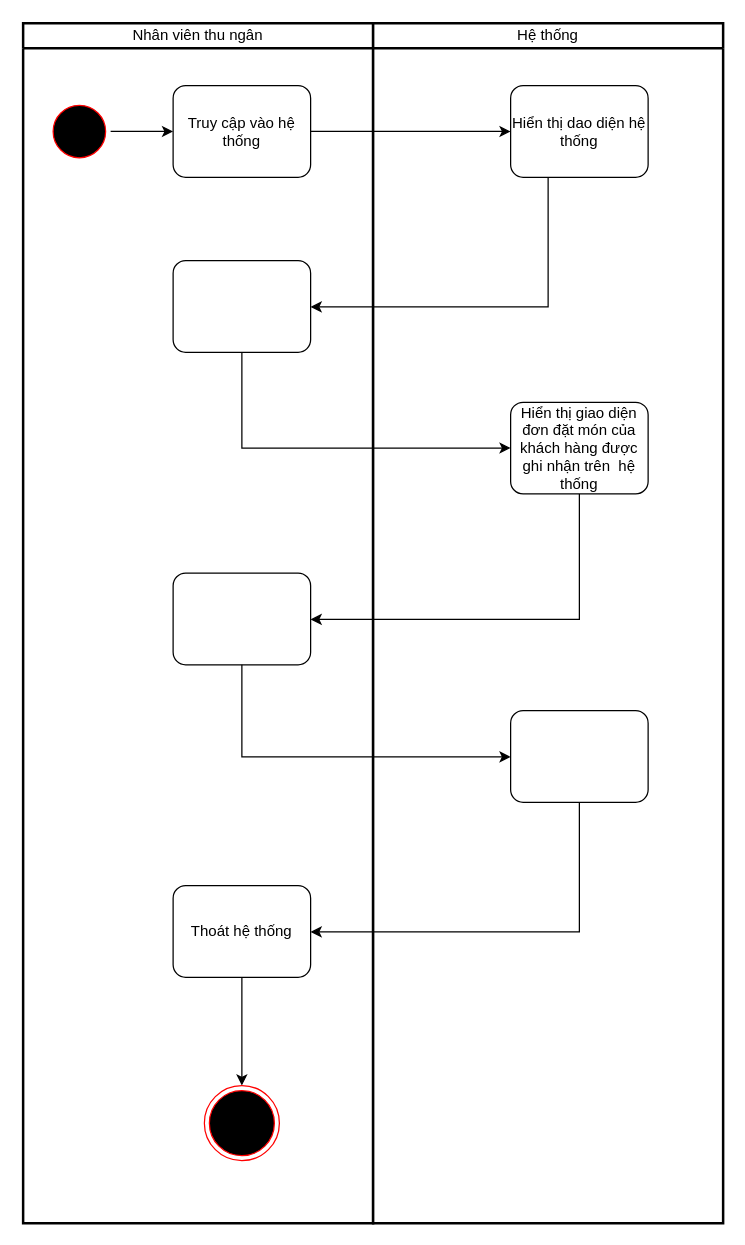
The diagram is 745 pixels wide and 1245 high, and some of its shapes have lost their labels. Each missing label, with the centre of its shape:
"Ghi nhận và xuất hóa đơn cho nhân viên bếp" goes at point 578,755.
"Tiến hành xuất hóa đơn cho nhân viên bếp" goes at point 241,618.
"Truy cập vào hóa đơn đặt hàng" goes at point 241,305.
